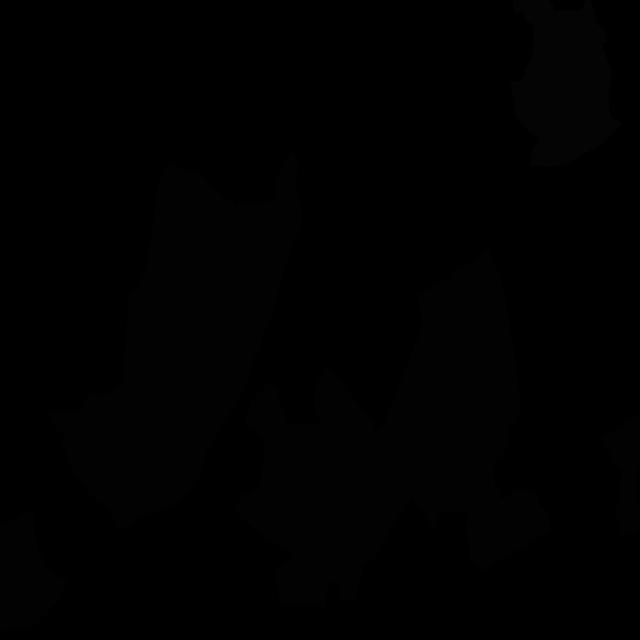cardboard: (48, 150, 302, 530), (236, 269, 496, 611), (462, 249, 522, 459), (464, 474, 550, 571), (0, 509, 67, 631), (602, 414, 640, 534), (417, 279, 450, 328)
soft_plastic: (510, 0, 622, 167)
